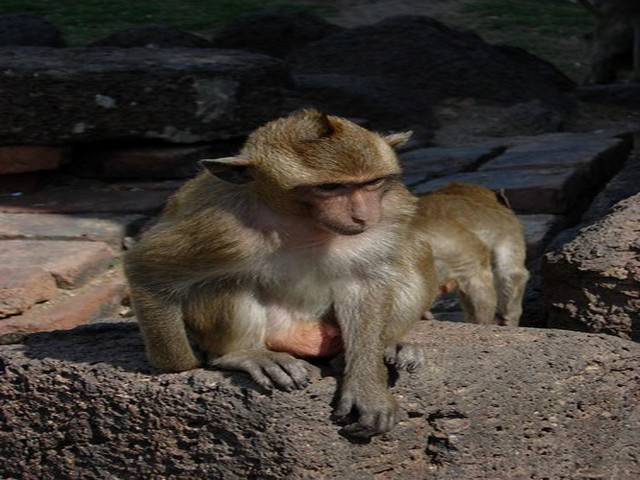Monkey: (123, 107, 571, 399)
